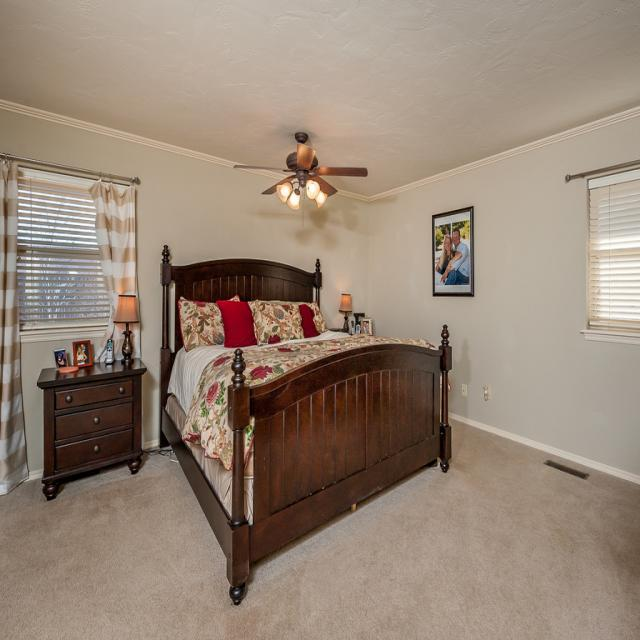bulb_on: (278, 180, 293, 202), (284, 191, 302, 206), (306, 180, 321, 198), (316, 194, 324, 202)
fan_off: (234, 134, 370, 198)
